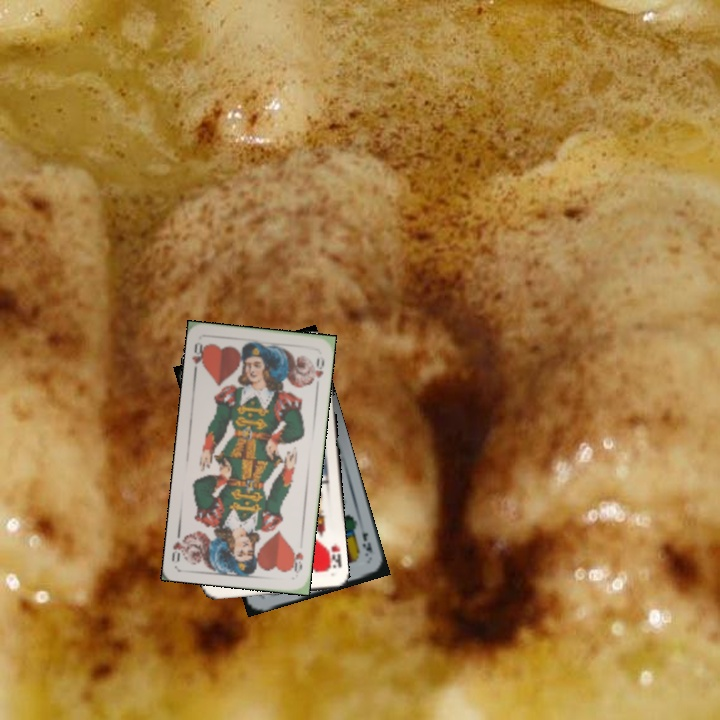EK: (358, 528, 375, 559)
HK: (322, 541, 344, 573)
HO: (188, 340, 209, 377), (287, 545, 306, 577)
